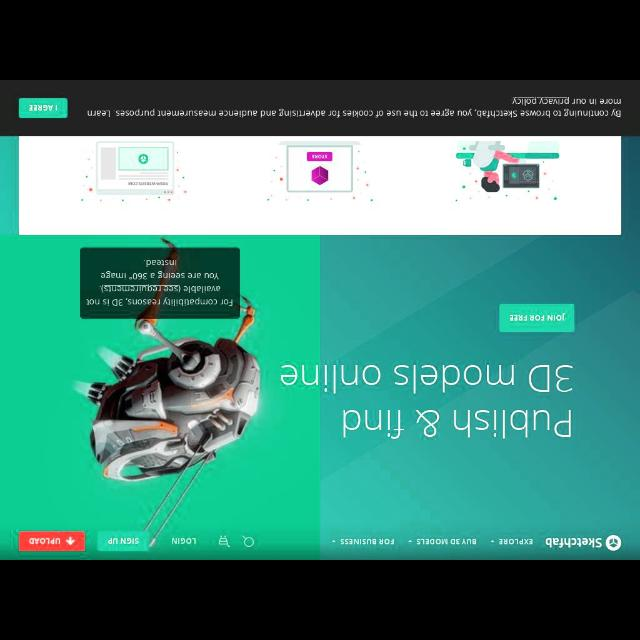backgroundimage: (71, 241, 263, 554)
icon: (218, 534, 230, 548), (242, 535, 254, 547), (66, 536, 74, 546), (408, 540, 412, 542), (332, 540, 336, 542), (491, 540, 494, 542)
image: (78, 140, 188, 207), (263, 140, 375, 204), (453, 142, 561, 202), (544, 534, 622, 552)
spinner: (332, 538, 394, 546), (408, 538, 477, 544), (491, 538, 533, 546)
text: (279, 364, 573, 438), (88, 96, 620, 118), (85, 259, 233, 305), (509, 312, 565, 322), (108, 538, 138, 544), (30, 538, 60, 544), (28, 105, 58, 111), (172, 538, 196, 544)
textbutton: (500, 304, 574, 332), (19, 531, 85, 551), (98, 530, 148, 552), (18, 98, 68, 118)
toolbar: (1, 522, 639, 560)
